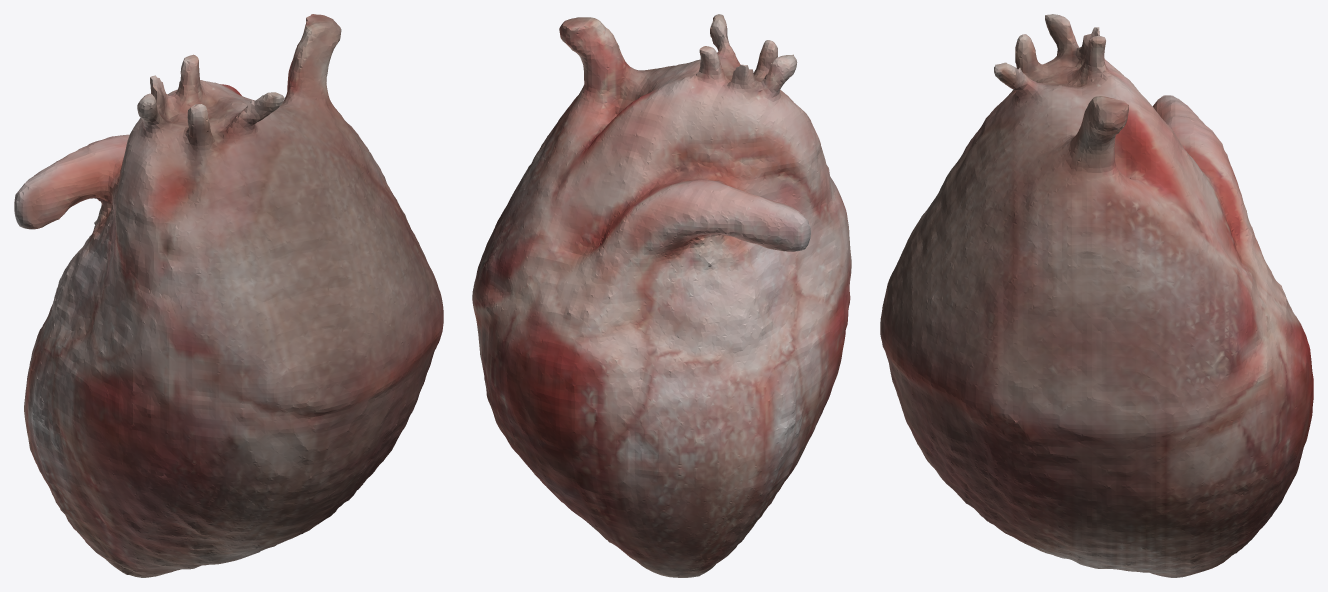
Rendered from heart1.glb.
3 views of the same model, side by side, from view 1: azimuth 30°, elevation 25°; view 2: azimuth 150°, elevation 25°; view 3: azimuth 270°, elevation 25° (orthographic). The views are drawn at different scales.
Parts seen in each view (by area): view 1: world; view 2: world; view 3: world.
Part boxes in pixels (bbox=[...]): world: bbox=[14, 14, 443, 577]; world: bbox=[472, 14, 851, 577]; world: bbox=[880, 14, 1313, 577].
Bounding box in the file's own units: 1.4 × 1.99 × 1.44.
